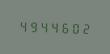four: (17, 18, 26, 33), (47, 19, 56, 34), (37, 19, 46, 33)
nine: (27, 19, 36, 33)
six: (57, 20, 66, 34)
two: (77, 20, 86, 35)
zero: (67, 20, 76, 34)
